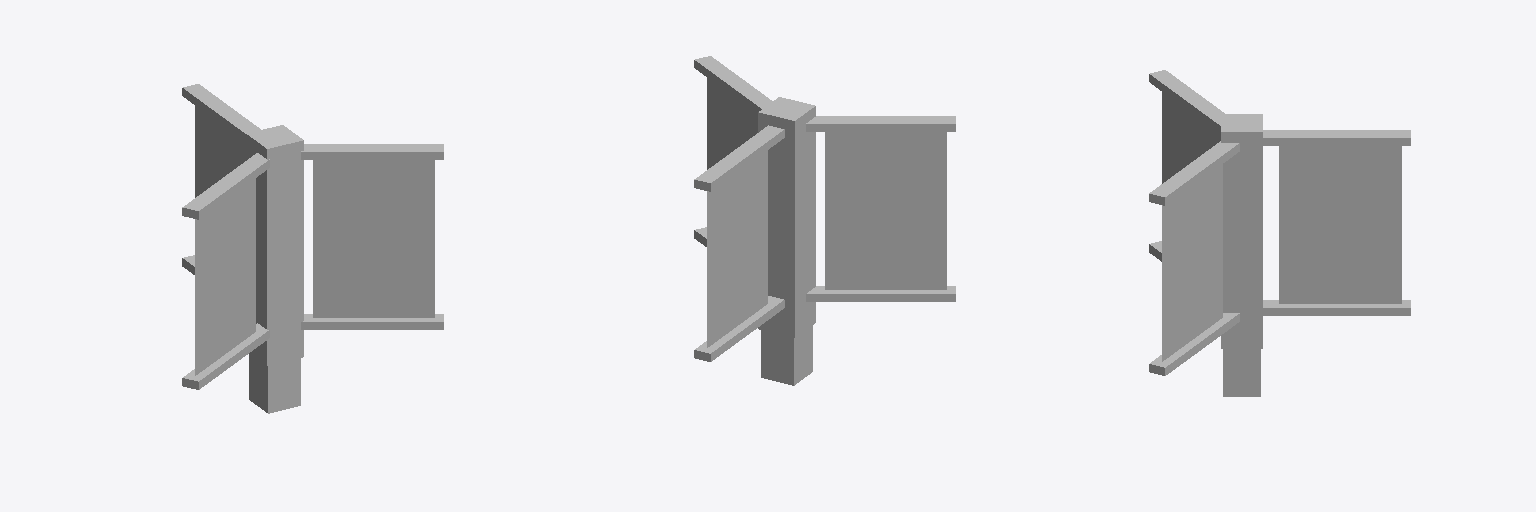
Rendered from vawt.obj.
The picture shows the model from 3 angles: view 1: azimuth 30°, elevation 25°; view 2: azimuth 150°, elevation 25°; view 3: azimuth 270°, elevation 25°; orthographic projection.
Visible parts, largest first — view 1: blade3-3, axis3, blade2-3, blade1-3, axis1, blade3-1, blade2-1, blade3-2, blade1-1, blade2-2; view 2: blade2-3, axis3, blade1-3, blade3-3, axis1, blade2-1, blade1-1, blade2-2, blade3-1, blade1-2; view 3: blade1-3, blade3-3, axis3, blade2-3, blade1-1, blade3-1, blade1-2, axis1, blade2-1, blade3-2.
Part boxes in pixels (x1,y1,x2,y2): blade3-3: (313, 160, 434, 317); axis3: (246, 125, 303, 365); blade2-3: (195, 178, 255, 375); blade1-3: (195, 106, 245, 197); axis1: (249, 353, 300, 413); blade3-1: (301, 144, 443, 159); blade2-1: (182, 153, 269, 219); blade3-2: (301, 314, 443, 329); blade1-1: (182, 84, 260, 141); blade2-2: (182, 323, 269, 389); blade2-3: (825, 132, 946, 289); axis3: (758, 97, 815, 337); blade1-3: (707, 150, 767, 347); blade3-3: (707, 78, 757, 169); axis1: (761, 325, 812, 385); blade2-1: (806, 116, 955, 131); blade1-1: (694, 125, 784, 191); blade2-2: (806, 286, 955, 301); blade3-1: (694, 56, 772, 113); blade1-2: (694, 296, 784, 361); blade1-3: (1279, 146, 1401, 303); blade3-3: (1162, 164, 1222, 361); axis3: (1221, 114, 1262, 348); blade2-3: (1162, 92, 1220, 183); blade1-1: (1263, 130, 1410, 145); blade3-1: (1149, 141, 1239, 205); blade1-2: (1263, 300, 1410, 315); axis1: (1223, 349, 1260, 396); blade2-1: (1149, 70, 1224, 133); blade3-2: (1149, 313, 1239, 375).
Bounding box in the file's own units: 2.01 × 1.95 × 1.74.